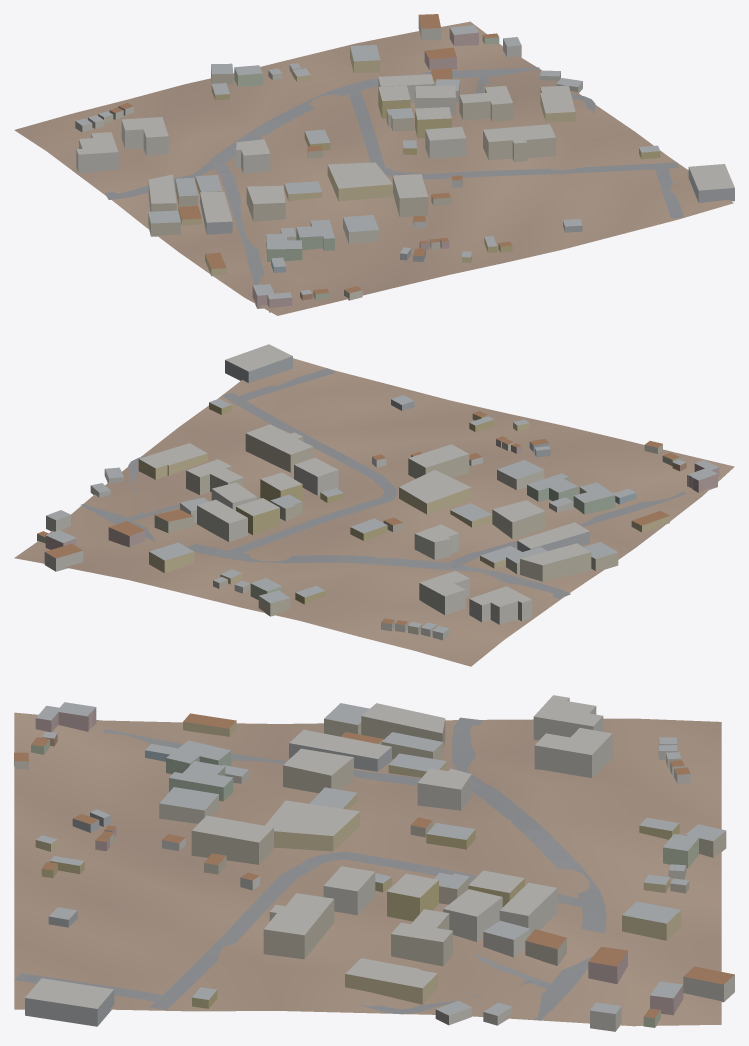
3 renders of one model, top to bottom at view 1: azimuth 30°, elevation 25°; view 2: azimuth 150°, elevation 25°; view 3: azimuth 270°, elevation 25°, orthographic. The views are drawn at different scales.
Parts seen in each view (by area): view 1: Lo; view 2: Lo; view 3: Lo.
Boxes of the visible parts, bbox=[...] form: Lo: bbox=[14, 14, 734, 315]; Lo: bbox=[14, 344, 734, 666]; Lo: bbox=[14, 695, 734, 1031].
Size of the model in its own units: 271 by 16.72 by 261.
